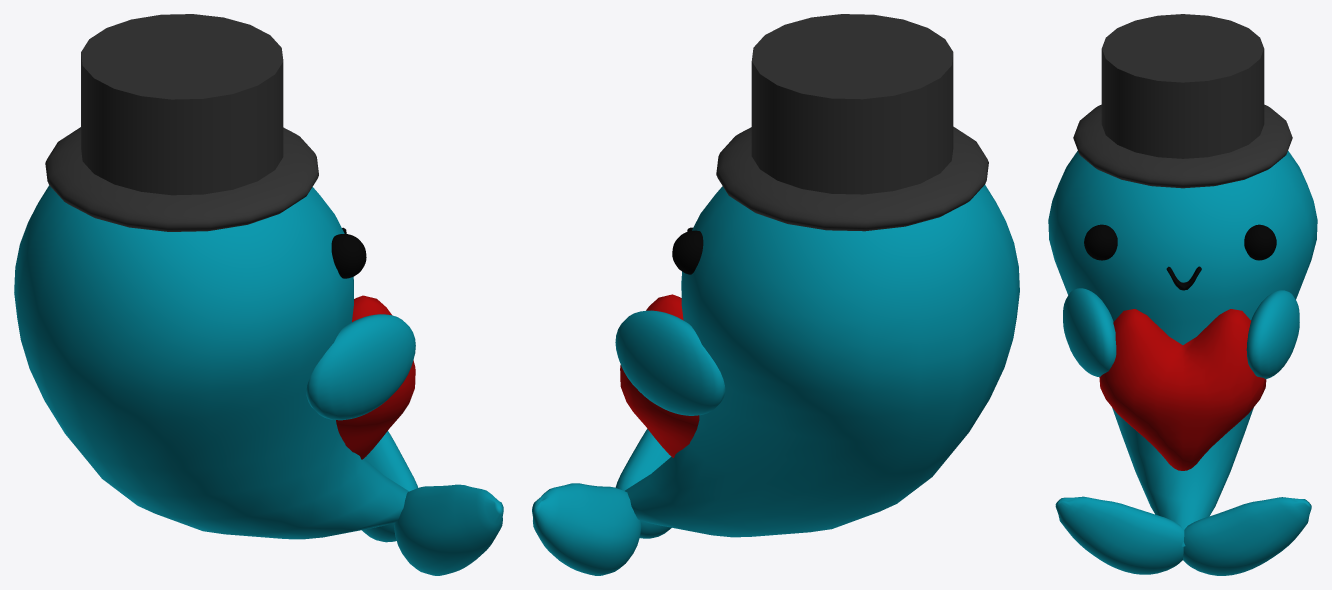
File: WhaleWithHeart.fbx
3 renders of one model, left to right at view 1: azimuth 30°, elevation 25°; view 2: azimuth 150°, elevation 25°; view 3: azimuth 270°, elevation 25°, orthographic. The views are drawn at different scales.
Parts seen in each view (by area): view 1: pSphere1, pCylinder1, pSphere11, pSphere3, pSphere16, pSphere2, pSphere17, pSphere13; view 2: pSphere1, pCylinder1, pSphere11, pSphere4, pSphere17, pSphere2, pSphere16, pSphere15; view 3: pSphere1, pCylinder1, pSphere2, pSphere11, pSphere17, pSphere16, pSphere3, pSphere4, pSphere13, pSphere15.
Boxes of the visible parts, left/top/right/bottom form: pSphere1: left=14, top=185, right=408, bottom=539; pCylinder1: left=81, top=14, right=283, bottom=195; pSphere11: left=45, top=127, right=318, bottom=231; pSphere3: left=306, top=314, right=415, bottom=420; pSphere16: left=394, top=484, right=503, bottom=575; pSphere2: left=336, top=295, right=415, bottom=459; pSphere17: left=362, top=431, right=417, bottom=542; pSphere13: left=331, top=234, right=366, bottom=278; pSphere1: left=625, top=185, right=1019, bottom=537; pCylinder1: left=751, top=14, right=953, bottom=194; pSphere11: left=716, top=126, right=988, bottom=231; pSphere4: left=615, top=310, right=725, bottom=415; pSphere17: left=532, top=483, right=641, bottom=575; pSphere2: left=620, top=294, right=699, bottom=457; pSphere16: left=615, top=429, right=671, bottom=538; pSphere15: left=672, top=230, right=703, bottom=274; pSphere1: left=1048, top=151, right=1317, bottom=546; pCylinder1: left=1101, top=14, right=1264, bottom=158; pSphere2: left=1099, top=309, right=1266, bottom=470; pSphere11: left=1073, top=104, right=1292, bottom=188; pSphere17: left=1183, top=497, right=1311, bottom=575; pSphere16: left=1055, top=496, right=1184, bottom=574; pSphere3: left=1063, top=288, right=1116, bottom=376; pSphere4: left=1246, top=290, right=1299, bottom=378; pSphere13: left=1084, top=224, right=1117, bottom=260; pSphere15: left=1244, top=224, right=1276, bottom=260.
Size of the model in its own units: 2.05 by 2.71 by 1.5.
